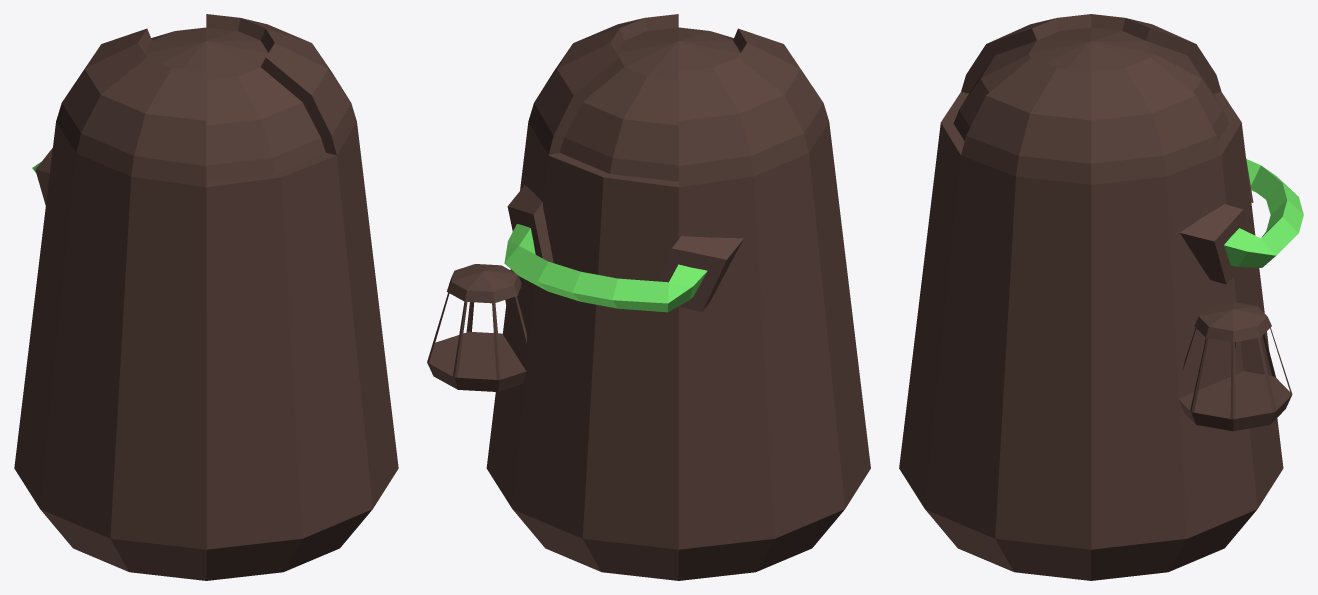
Rendered from bot.fbx.
3 renders of one model, left to right at view 1: azimuth 30°, elevation 25°; view 2: azimuth 150°, elevation 25°; view 3: azimuth 270°, elevation 25°, orthographic.
Parts seen in each view (by area): view 1: Sphere; view 2: Sphere, Sphere.001; view 3: Sphere, Sphere.001.
Boxes of the visible parts, x1,y1,x2,y2 form: Sphere: (14, 14, 398, 580); Sphere: (486, 14, 870, 580); Sphere.001: (427, 264, 526, 391); Sphere: (899, 14, 1303, 580); Sphere.001: (1178, 302, 1292, 431).
Bounding box in the file's own units: 200 × 282 × 205.
